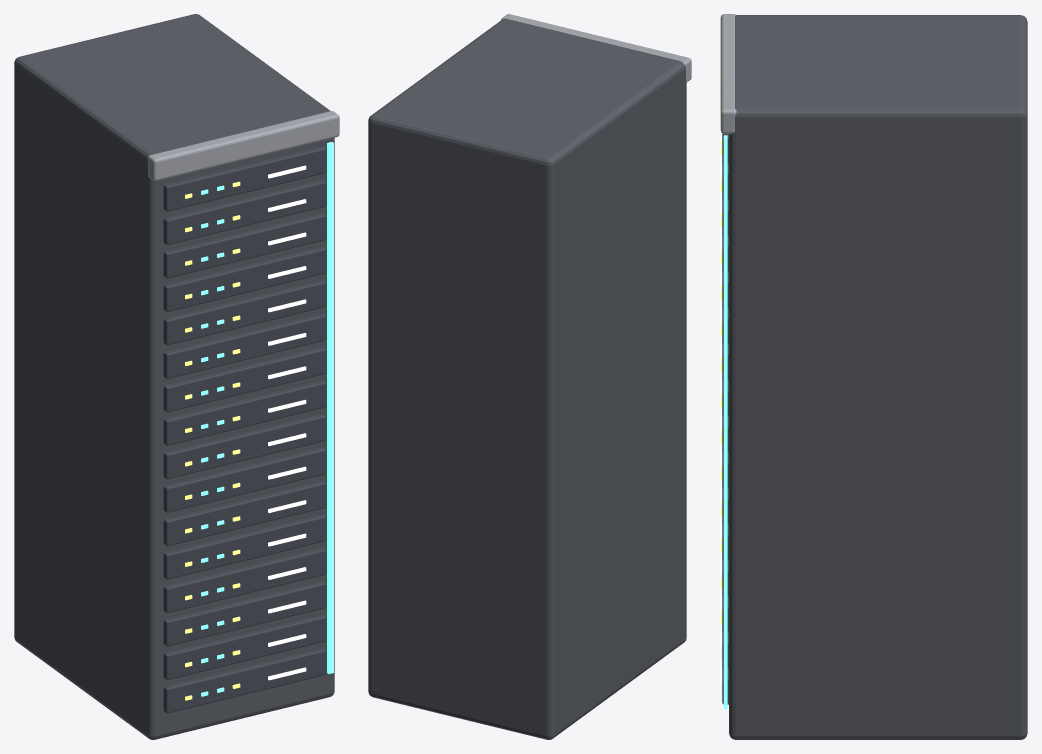
The model's file is server_rack_blade_cool.glb.
The picture shows the model from 3 angles, left to right: view 1: azimuth 30°, elevation 25°; view 2: azimuth 150°, elevation 25°; view 3: azimuth 270°, elevation 25°; orthographic projection. The views are drawn at different scales.
Visible parts, largest first — view 1: GD_server_rack_blade_cool__m0, GD_server_rack_blade_cool__m1, GD_server_rack_blade_cool__m5, GD_server_rack_blade_cool__m2, GD_server_rack_blade_cool__m4, GD_server_rack_blade_cool__m3; view 2: GD_server_rack_blade_cool__m0, GD_server_rack_blade_cool__m5; view 3: GD_server_rack_blade_cool__m0, GD_server_rack_blade_cool__m2, GD_server_rack_blade_cool__m1, GD_server_rack_blade_cool__m5, GD_server_rack_blade_cool__m4.
Part boxes in pixels (x1,y1,x2,y2): GD_server_rack_blade_cool__m0: [14, 14, 334, 739]; GD_server_rack_blade_cool__m1: [163, 146, 326, 713]; GD_server_rack_blade_cool__m5: [147, 111, 339, 180]; GD_server_rack_blade_cool__m2: [201, 142, 333, 696]; GD_server_rack_blade_cool__m4: [268, 165, 306, 680]; GD_server_rack_blade_cool__m3: [185, 181, 240, 700]; GD_server_rack_blade_cool__m0: [368, 18, 686, 739]; GD_server_rack_blade_cool__m5: [501, 14, 691, 82]; GD_server_rack_blade_cool__m0: [729, 15, 1027, 739]; GD_server_rack_blade_cool__m2: [720, 84, 727, 709]; GD_server_rack_blade_cool__m1: [722, 133, 728, 704]; GD_server_rack_blade_cool__m5: [720, 14, 736, 133]; GD_server_rack_blade_cool__m4: [720, 119, 722, 683].
Bounding box in the file's own units: 0.7 × 2.1 × 0.926.
